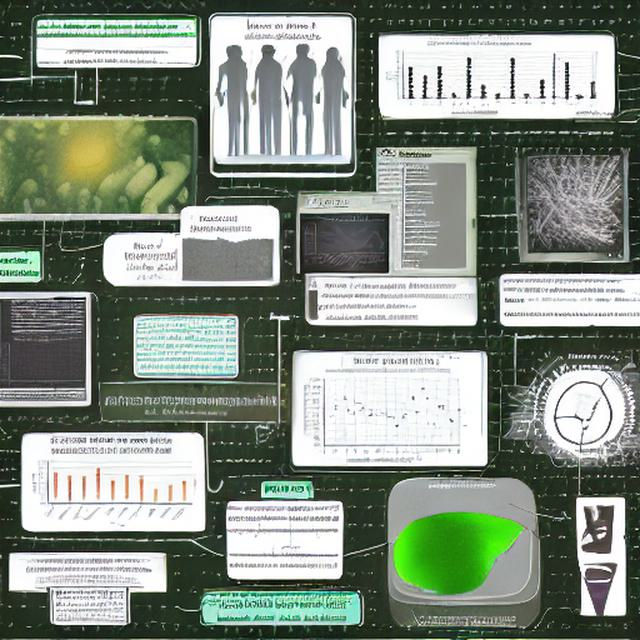Graph: (301, 366, 463, 464), (29, 435, 195, 529), (381, 40, 552, 114), (306, 216, 389, 273), (0, 337, 86, 388)
